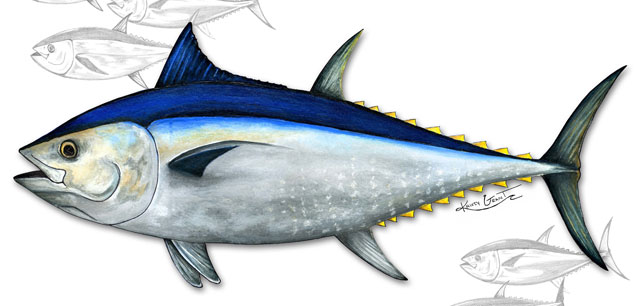Bluefina Tuna: (14, 32, 633, 296)
